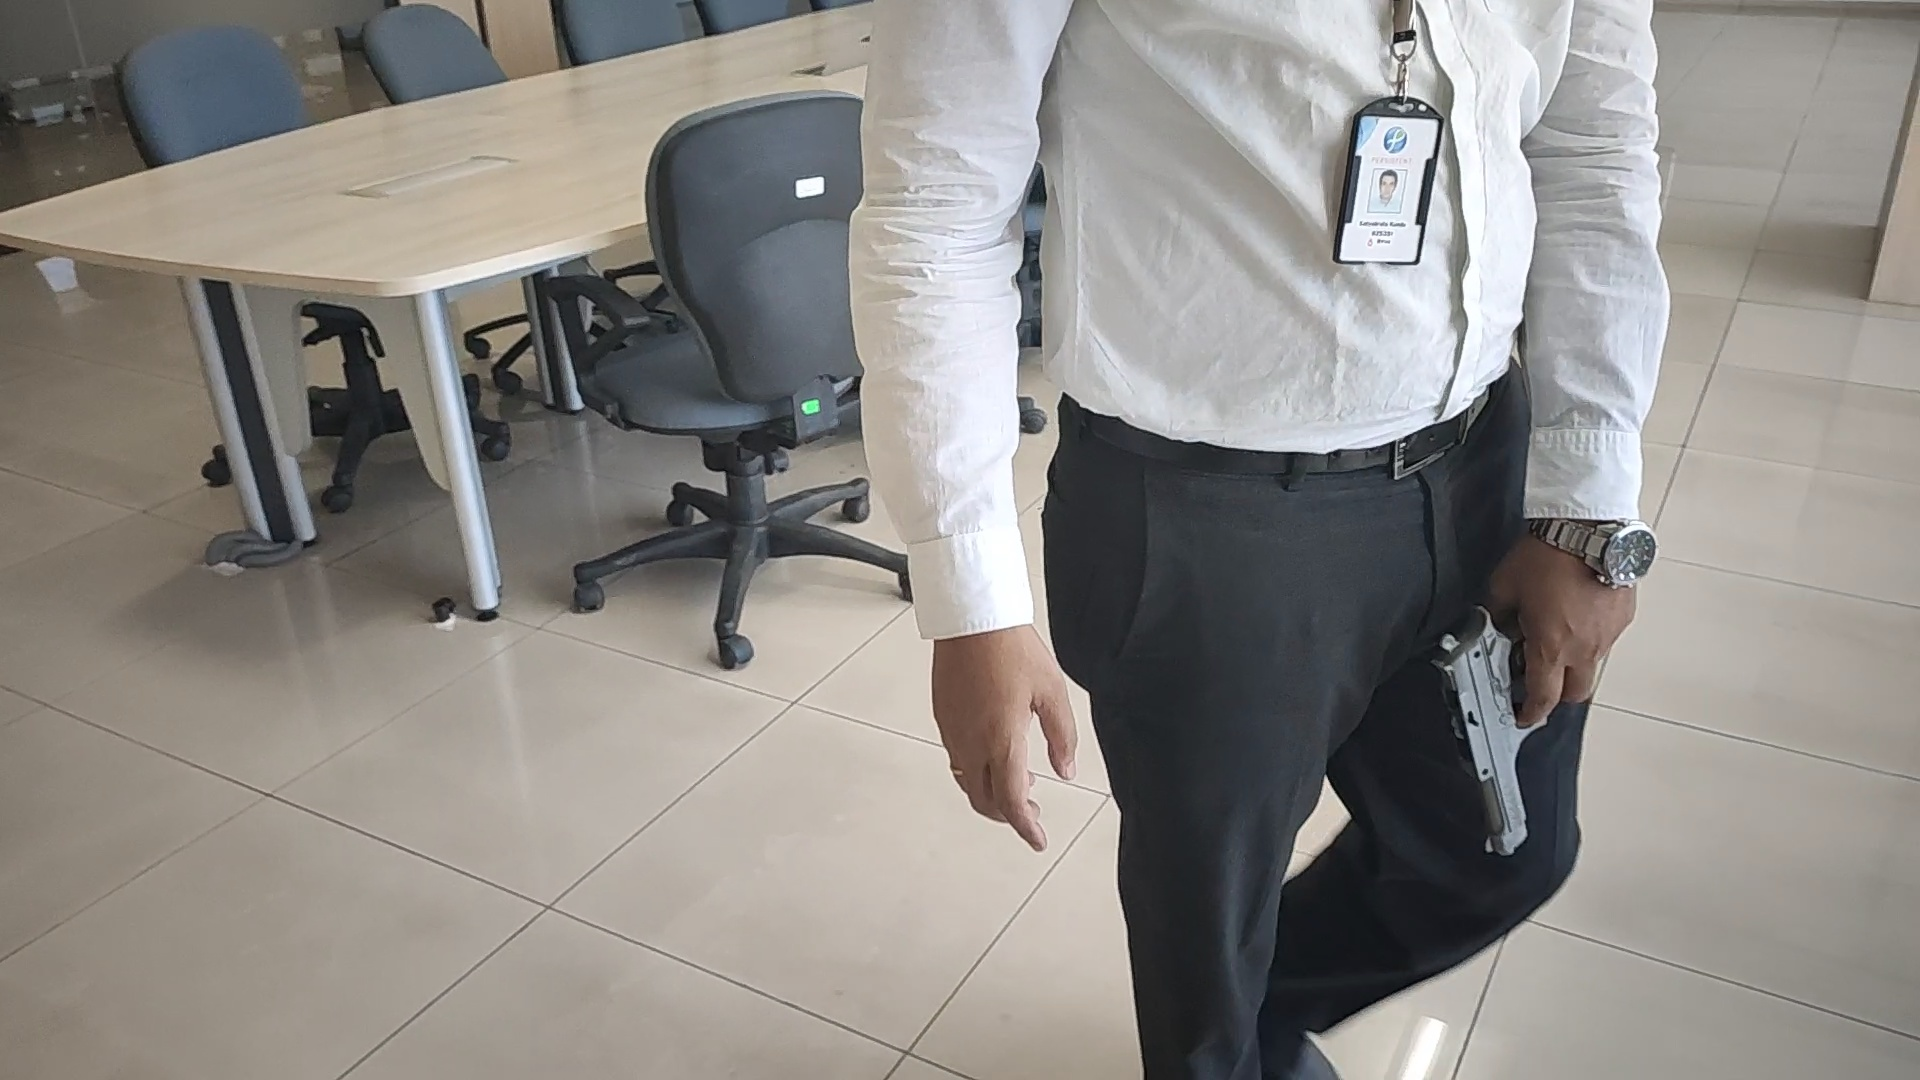gun: (1432, 608, 1540, 857)
